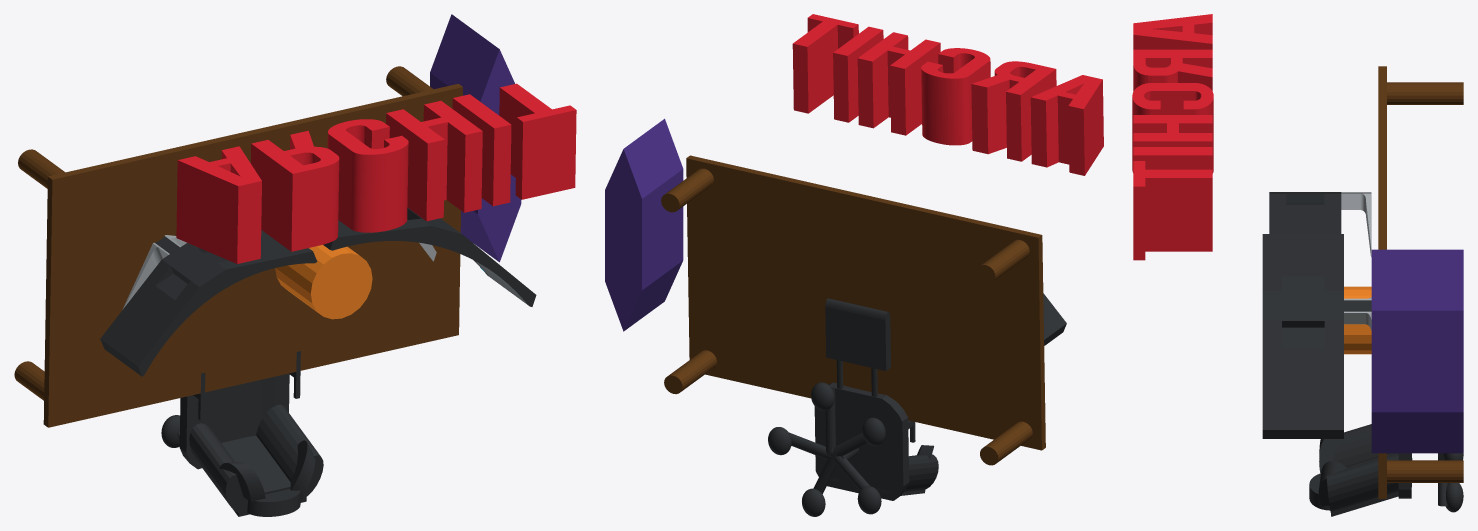
File: tinker.obj
3 views of the same model, side by side, from view 1: azimuth 30°, elevation 25°; view 2: azimuth 150°, elevation 25°; view 3: azimuth 270°, elevation 25° (orthographic). The views are drawn at different scales.
Parts seen in each view (by area): view 1: group_0_6306067, group_0_15277357, group_0_2829873, group_0_4993675, group_0_16089887, group_0_10988977; view 2: group_0_6306067, group_0_15277357, group_0_2829873, group_0_4993675; view 3: group_0_2829873, group_0_4993675, group_0_15277357, group_0_6306067, group_0_10988977, group_0_16089887.
Part boxes in pixels (x1,y1,x2,y2): group_0_6306067: [14, 66, 462, 427]; group_0_15277357: [176, 83, 576, 263]; group_0_2829873: [100, 207, 536, 516]; group_0_4993675: [430, 14, 521, 262]; group_0_16089887: [275, 244, 372, 319]; group_0_10988977: [122, 235, 436, 309]; group_0_6306067: [661, 155, 1045, 465]; group_0_15277357: [792, 14, 1103, 175]; group_0_2829873: [768, 293, 1066, 516]; group_0_4993675: [605, 118, 683, 331]; group_0_2829873: [1262, 192, 1463, 516]; group_0_4993675: [1371, 249, 1463, 453]; group_0_15277357: [1132, 14, 1213, 260]; group_0_6306067: [1378, 66, 1463, 498]; group_0_10988977: [1341, 192, 1371, 330]; group_0_16089887: [1344, 286, 1371, 354].
Bounding box in the file's own units: 152 × 134 × 97.2.
